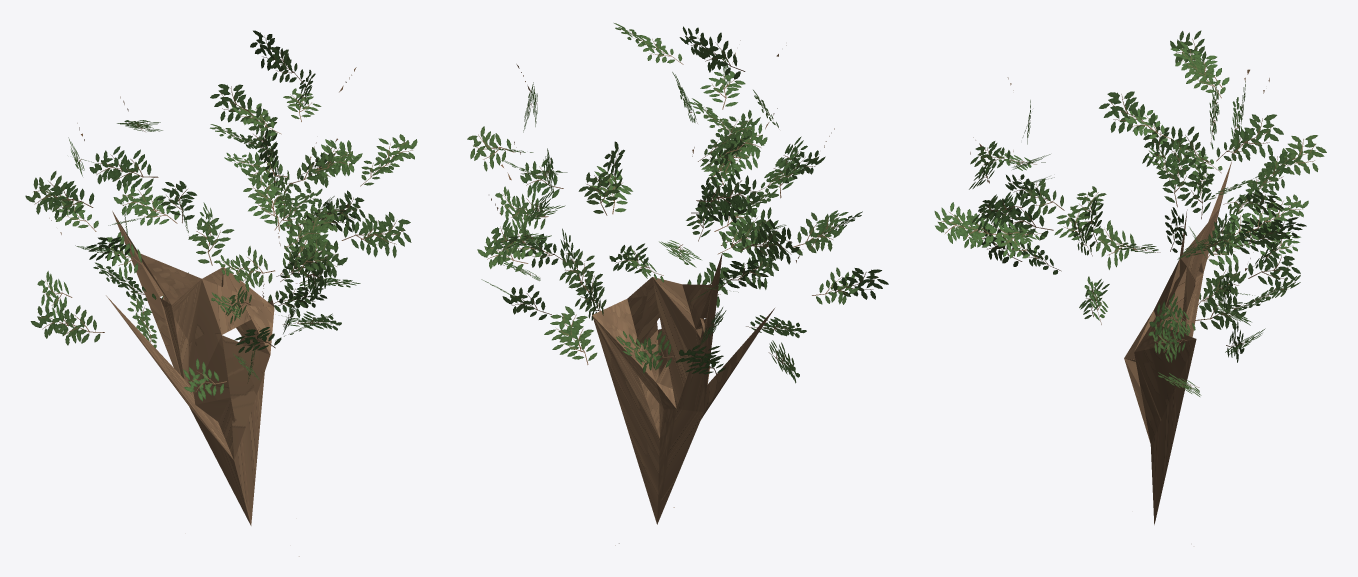
File: Arbousier_V10_3_LOD2.fbx
3 renders of one model, left to right at view 1: azimuth 30°, elevation 25°; view 2: azimuth 150°, elevation 25°; view 3: azimuth 270°, elevation 25°, orthographic. The views are drawn at different scales.
Parts seen in each view (by area): view 1: Arbousier_V10_3_LOD2; view 2: Arbousier_V10_3_LOD2; view 3: Arbousier_V10_3_LOD2.
Part boxes in pixels (box(x1,y1,x2,y2)): Arbousier_V10_3_LOD2: box(25, 30, 417, 556); Arbousier_V10_3_LOD2: box(467, 23, 888, 545); Arbousier_V10_3_LOD2: box(934, 30, 1326, 524).
Size of the model in its own units: 282 by 349 by 277.
